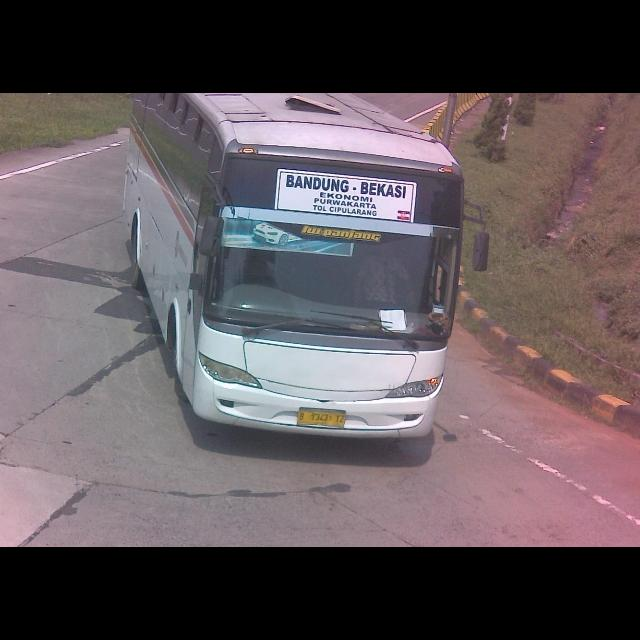plate: (297, 409, 347, 431)
